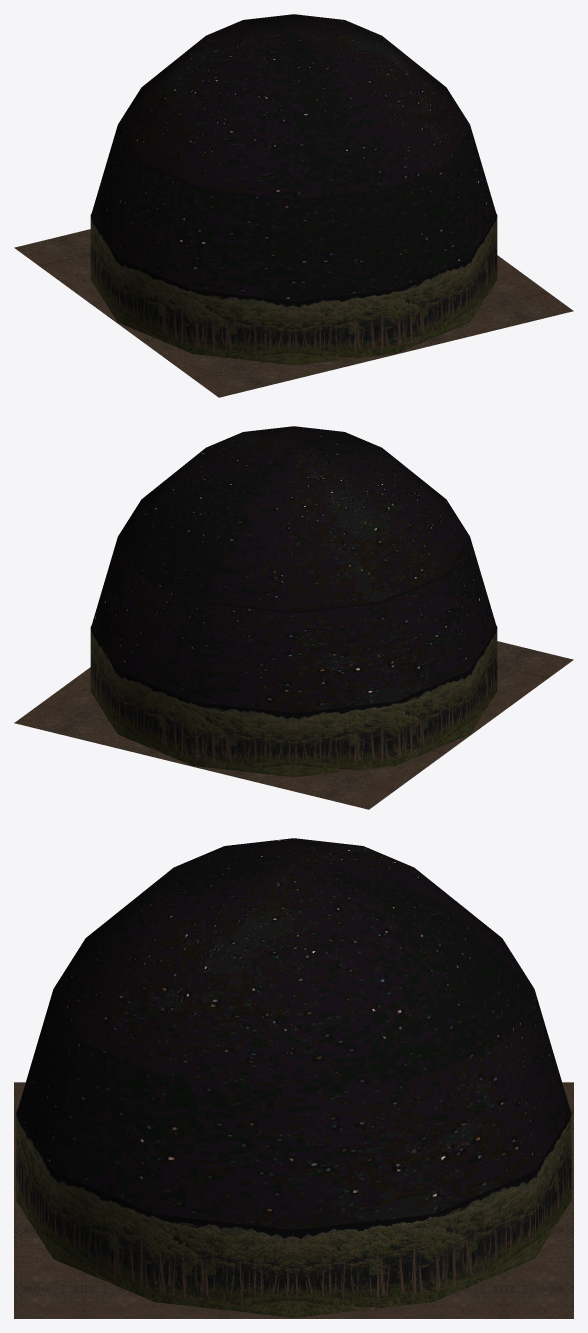
Rendered from level_forest_b.FBX.
3 renders of one model, top to bottom at view 1: azimuth 30°, elevation 25°; view 2: azimuth 150°, elevation 25°; view 3: azimuth 270°, elevation 25°, orthographic. The views are drawn at different scales.
Parts seen in each view (by area): view 1: Ground; view 2: Ground; view 3: Ground.
Part boxes in pixels (x1=…): Ground: x1=14, y1=14, x2=573, y2=397; Ground: x1=14, y1=426, x2=573, y2=809; Ground: x1=14, y1=838, x2=573, y2=1318.
Bounding box in the file's own units: 159 × 106 × 159.
